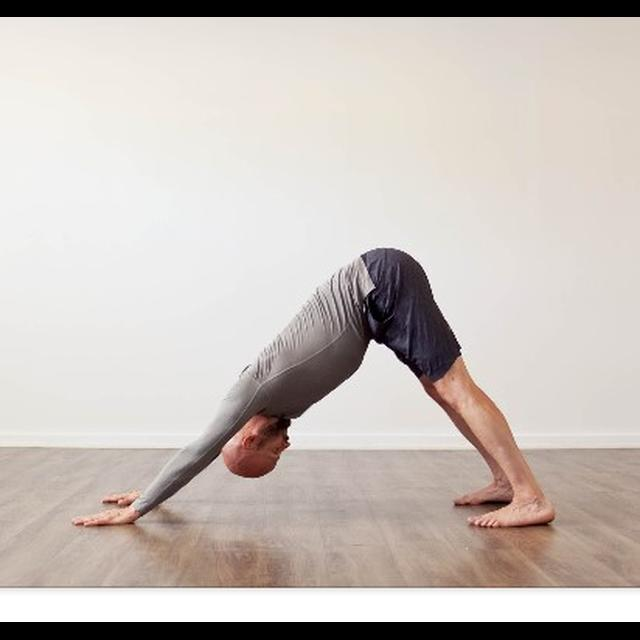Downward-Facing_Dog: (66, 244, 566, 531)
